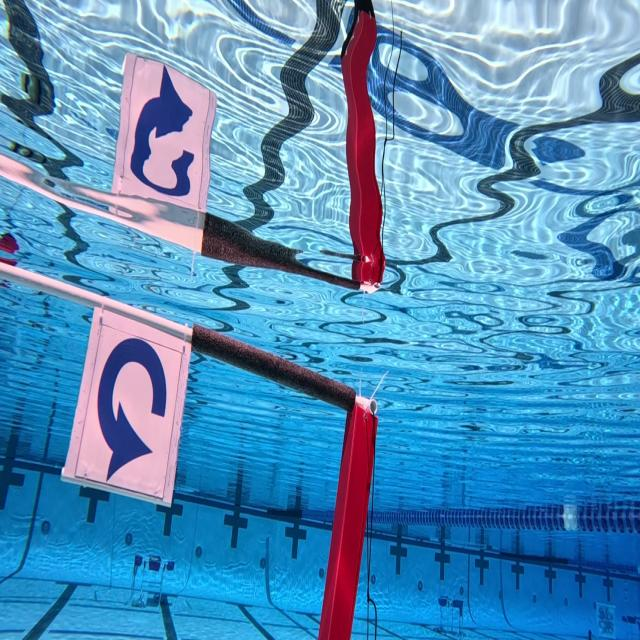blue_side: (58, 290, 200, 514)
